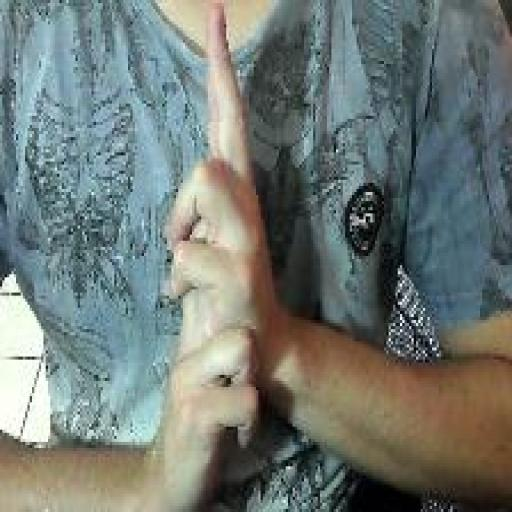Hitsuji -ram-: (160, 2, 267, 508)
